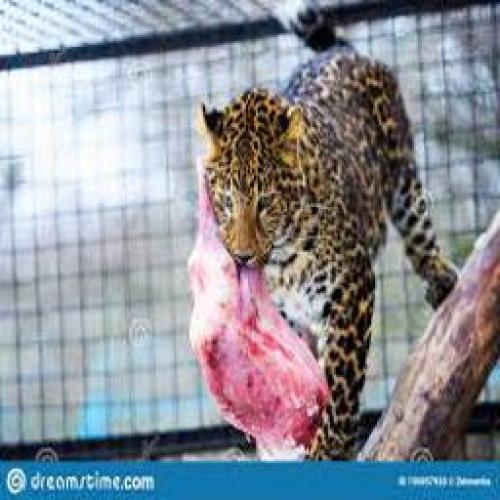amur_leopard-endangered: (188, 44, 460, 462)
